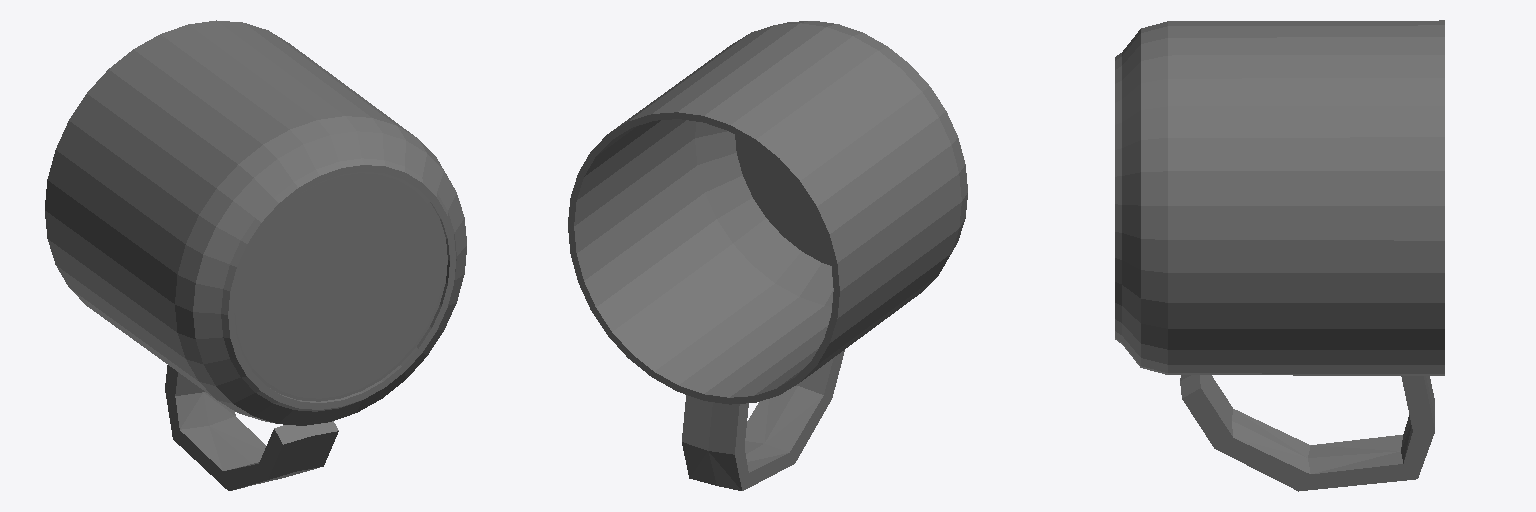
The robot description file, URDF, robot "mug_1_decomp":
<robot xmlns:drake="drake.mit.edu" name="mug_1_decomp">
  <link name="mug_1_decomp_body_link">
    <inertial>
      <origin xyz="-4.08E-09 5.41E-03 -3.88E-03" rpy="0 0 0"/>
      <mass value="2.00E-01"/>
      <inertia ixx="2.3650E-04" ixy="4.6340E-11" ixz="-1.1873E-11" iyy="2.3583E-04" iyz="-1.7742E-05" izz="1.7829E-04"/>
    </inertial>
    <visual>
      <origin xyz="0 0 0" rpy="0 0 0"/>
      <geometry>
        <mesh filename="mug_1_decomp_visual.obj" scale="1.0000E+00 1.0000E+00 1.0000E+00"/>
      </geometry>
      <material name="">
        <color rgba="5.00E-01 5.00E-01 5.00E-01 1.00E+00"/>
      </material>
    </visual>
    <collision>
      <origin xyz="0 0 0" rpy="0 0 0"/>
      <geometry>
        <mesh filename="mug_1_decomp_convex_piece_0.obj" scale="1.0000E+00 1.0000E+00 1.0000E+00">
          <drake:declare_convex/>
        </mesh>
      </geometry>
    </collision>
    <collision>
      <origin xyz="0 0 0" rpy="0 0 0"/>
      <geometry>
        <mesh filename="mug_1_decomp_convex_piece_1.obj" scale="1.0000E+00 1.0000E+00 1.0000E+00">
          <drake:declare_convex/>
        </mesh>
      </geometry>
    </collision>
    <collision>
      <origin xyz="0 0 0" rpy="0 0 0"/>
      <geometry>
        <mesh filename="mug_1_decomp_convex_piece_2.obj" scale="1.0000E+00 1.0000E+00 1.0000E+00">
          <drake:declare_convex/>
        </mesh>
      </geometry>
    </collision>
    <collision>
      <origin xyz="0 0 0" rpy="0 0 0"/>
      <geometry>
        <mesh filename="mug_1_decomp_convex_piece_3.obj" scale="1.0000E+00 1.0000E+00 1.0000E+00">
          <drake:declare_convex/>
        </mesh>
      </geometry>
    </collision>
    <collision>
      <origin xyz="0 0 0" rpy="0 0 0"/>
      <geometry>
        <mesh filename="mug_1_decomp_convex_piece_4.obj" scale="1.0000E+00 1.0000E+00 1.0000E+00">
          <drake:declare_convex/>
        </mesh>
      </geometry>
    </collision>
    <collision>
      <origin xyz="0 0 0" rpy="0 0 0"/>
      <geometry>
        <mesh filename="mug_1_decomp_convex_piece_5.obj" scale="1.0000E+00 1.0000E+00 1.0000E+00">
          <drake:declare_convex/>
        </mesh>
      </geometry>
    </collision>
    <collision>
      <origin xyz="0 0 0" rpy="0 0 0"/>
      <geometry>
        <mesh filename="mug_1_decomp_convex_piece_6.obj" scale="1.0000E+00 1.0000E+00 1.0000E+00">
          <drake:declare_convex/>
        </mesh>
      </geometry>
    </collision>
    <collision>
      <origin xyz="0 0 0" rpy="0 0 0"/>
      <geometry>
        <mesh filename="mug_1_decomp_convex_piece_7.obj" scale="1.0000E+00 1.0000E+00 1.0000E+00">
          <drake:declare_convex/>
        </mesh>
      </geometry>
    </collision>
    <collision>
      <origin xyz="0 0 0" rpy="0 0 0"/>
      <geometry>
        <mesh filename="mug_1_decomp_convex_piece_8.obj" scale="1.0000E+00 1.0000E+00 1.0000E+00">
          <drake:declare_convex/>
        </mesh>
      </geometry>
    </collision>
    <collision>
      <origin xyz="0 0 0" rpy="0 0 0"/>
      <geometry>
        <mesh filename="mug_1_decomp_convex_piece_9.obj" scale="1.0000E+00 1.0000E+00 1.0000E+00">
          <drake:declare_convex/>
        </mesh>
      </geometry>
    </collision>
    <collision>
      <origin xyz="0 0 0" rpy="0 0 0"/>
      <geometry>
        <mesh filename="mug_1_decomp_convex_piece_10.obj" scale="1.0000E+00 1.0000E+00 1.0000E+00">
          <drake:declare_convex/>
        </mesh>
      </geometry>
    </collision>
    <collision>
      <origin xyz="0 0 0" rpy="0 0 0"/>
      <geometry>
        <mesh filename="mug_1_decomp_convex_piece_11.obj" scale="1.0000E+00 1.0000E+00 1.0000E+00">
          <drake:declare_convex/>
        </mesh>
      </geometry>
    </collision>
    <collision>
      <origin xyz="0 0 0" rpy="0 0 0"/>
      <geometry>
        <mesh filename="mug_1_decomp_convex_piece_12.obj" scale="1.0000E+00 1.0000E+00 1.0000E+00">
          <drake:declare_convex/>
        </mesh>
      </geometry>
    </collision>
    <collision>
      <origin xyz="0 0 0" rpy="0 0 0"/>
      <geometry>
        <mesh filename="mug_1_decomp_convex_piece_13.obj" scale="1.0000E+00 1.0000E+00 1.0000E+00">
          <drake:declare_convex/>
        </mesh>
      </geometry>
    </collision>
    <collision>
      <origin xyz="0 0 0" rpy="0 0 0"/>
      <geometry>
        <mesh filename="mug_1_decomp_convex_piece_14.obj" scale="1.0000E+00 1.0000E+00 1.0000E+00">
          <drake:declare_convex/>
        </mesh>
      </geometry>
    </collision>
    <collision>
      <origin xyz="0 0 0" rpy="0 0 0"/>
      <geometry>
        <mesh filename="mug_1_decomp_convex_piece_15.obj" scale="1.0000E+00 1.0000E+00 1.0000E+00">
          <drake:declare_convex/>
        </mesh>
      </geometry>
    </collision>
  </link>
</robot>

--- What the picture shows (computed from the rendered views, not written in the file) ---
3 views of the same robot in one strip: view 1: azimuth 30°, elevation 25°; view 2: azimuth 150°, elevation 25°; view 3: azimuth 270°, elevation 25° (orthographic).
Robot: mug_1_decomp — 1 links, 0 joints (none); root link mug_1_decomp_body_link; default pose: every joint at zero.
Visible links, largest first — view 1: mug_1_decomp_body_link; view 2: mug_1_decomp_body_link; view 3: mug_1_decomp_body_link.
Link boxes in pixels (bbox=[...]): mug_1_decomp_body_link: bbox=[45, 20, 466, 490]; mug_1_decomp_body_link: bbox=[568, 21, 967, 490]; mug_1_decomp_body_link: bbox=[1115, 20, 1444, 491].
Size in the robot's own frame: 0.0707 by 0.0656 by 0.0964 metres.
Meshes: 1 distinct files referenced, 1 mesh visuals loaded (1 OBJ).